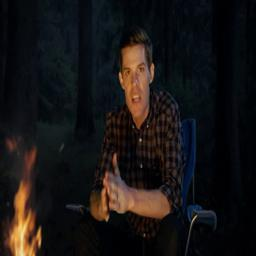fire: (8, 150, 44, 256)
